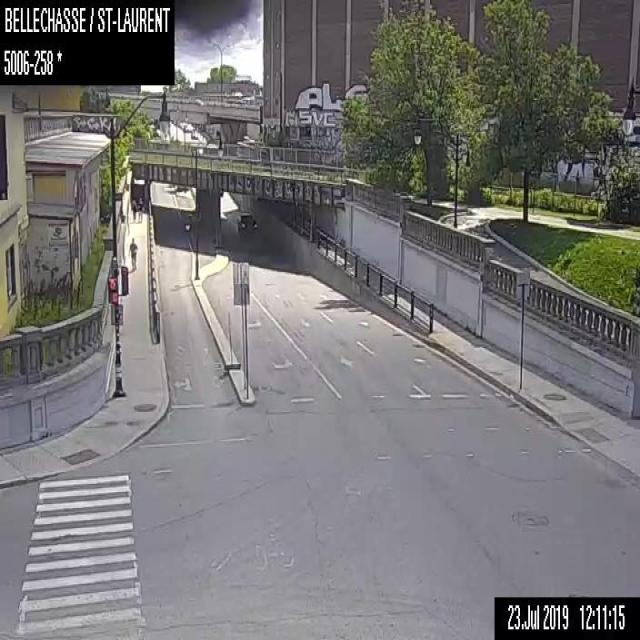pedestrian: (128, 236, 138, 269), (136, 196, 144, 222), (131, 200, 136, 220)
vehicle: (238, 212, 256, 232)
